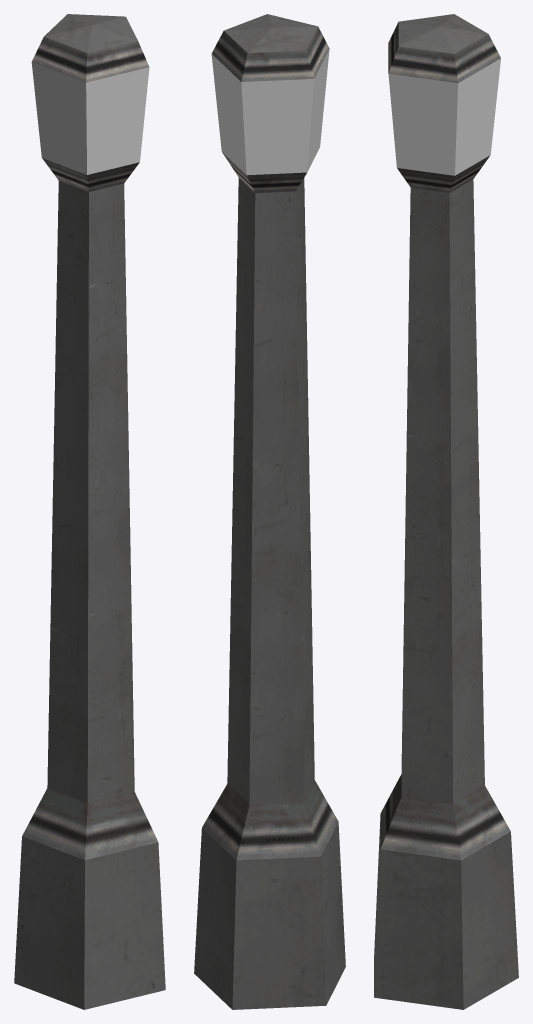
The model's file is lamp_pole_small.fbx.
3 views of the same model, side by side, from view 1: azimuth 30°, elevation 25°; view 2: azimuth 150°, elevation 25°; view 3: azimuth 270°, elevation 25° (orthographic).
Parts seen in each view (by area): view 1: lamp_pole_small; view 2: lamp_pole_small; view 3: lamp_pole_small.
Part boxes in pixels (x1,y1,x2,y2): lamp_pole_small: [14, 14, 165, 1009]; lamp_pole_small: [194, 14, 345, 1009]; lamp_pole_small: [374, 14, 518, 1009].
Bounding box in the file's own units: 57.06 × 393 × 54.27.
